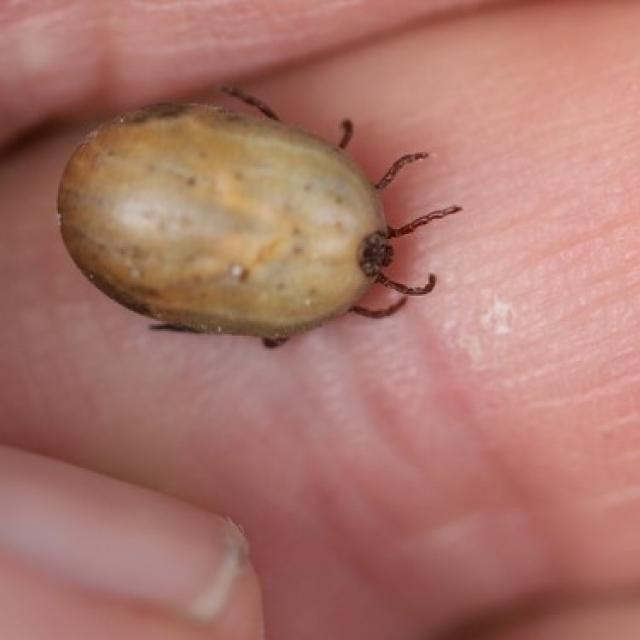Dermacentor Reticulatus-F-Fed: (56, 85, 463, 349)
